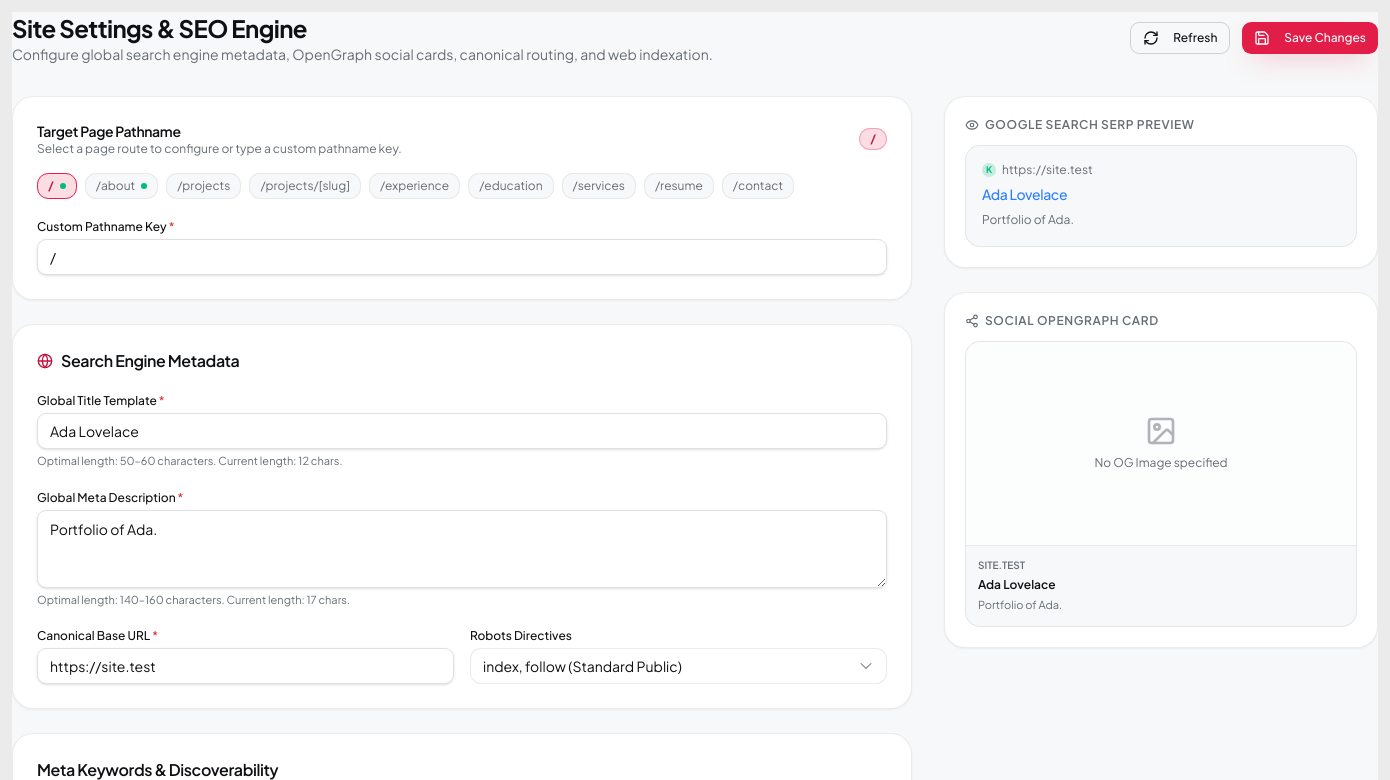
SettingsView › shows the error when saving fails
Expected: the field showing "Ada Lovelace" is shown, top-left (37, 413), bottom-right (887, 449)
Step 1. Click the button "Save Changes" → (1310, 38), box top-left (1242, 22), bottom-right (1378, 54)
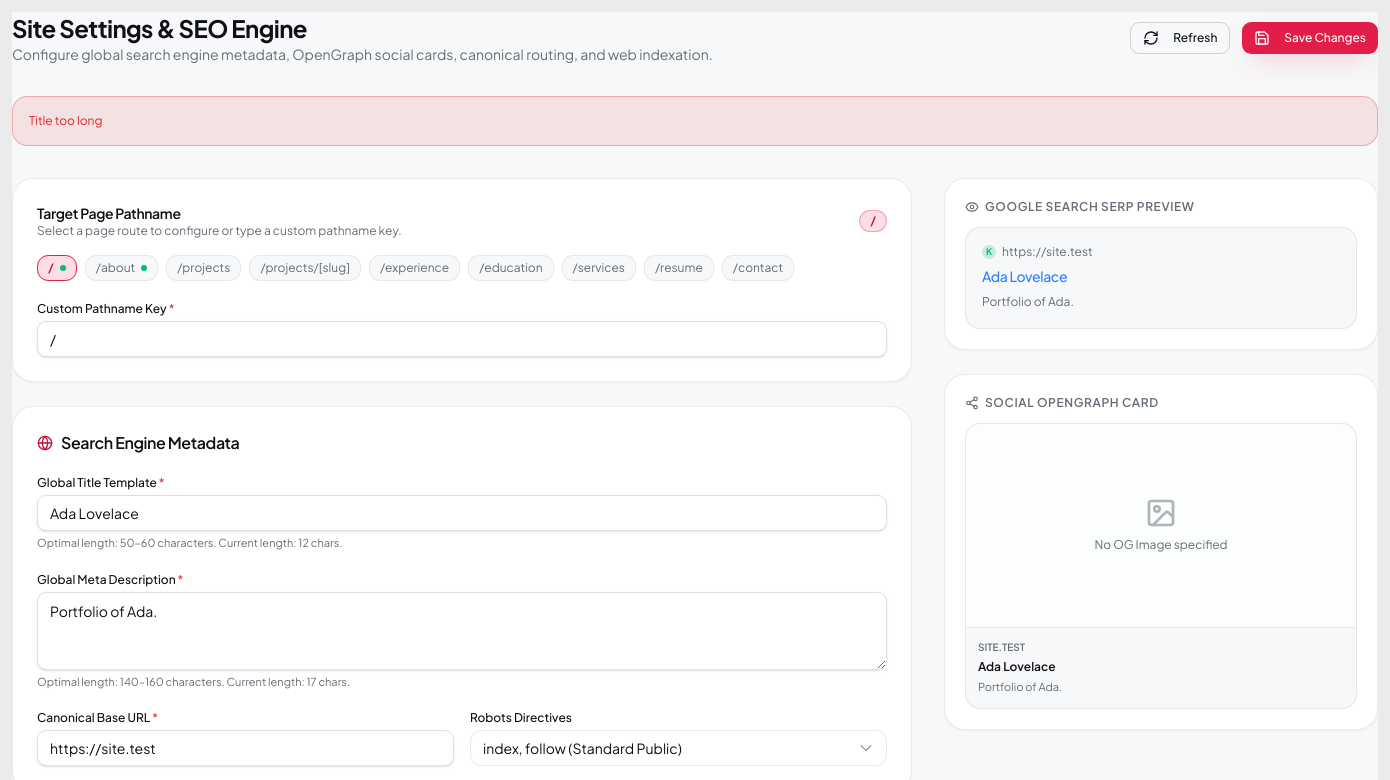
Expected: the text "Title too long" is shown, top-left (29, 113), bottom-right (102, 129)
